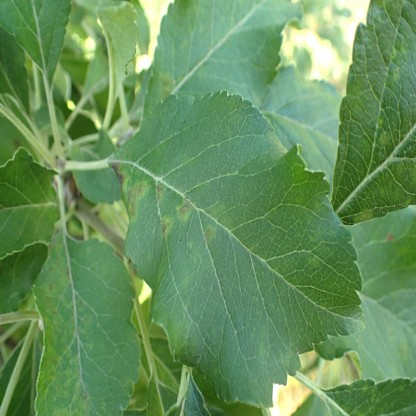scab: (39, 236, 91, 416), (128, 183, 148, 216), (211, 205, 233, 228), (112, 161, 129, 190), (160, 70, 171, 101), (355, 208, 373, 223), (178, 199, 190, 219), (121, 374, 134, 392), (154, 180, 164, 203), (160, 215, 171, 235), (279, 351, 291, 367), (378, 132, 391, 144), (400, 44, 409, 59), (203, 225, 211, 241), (257, 346, 265, 360), (393, 66, 400, 79), (309, 257, 319, 266)
